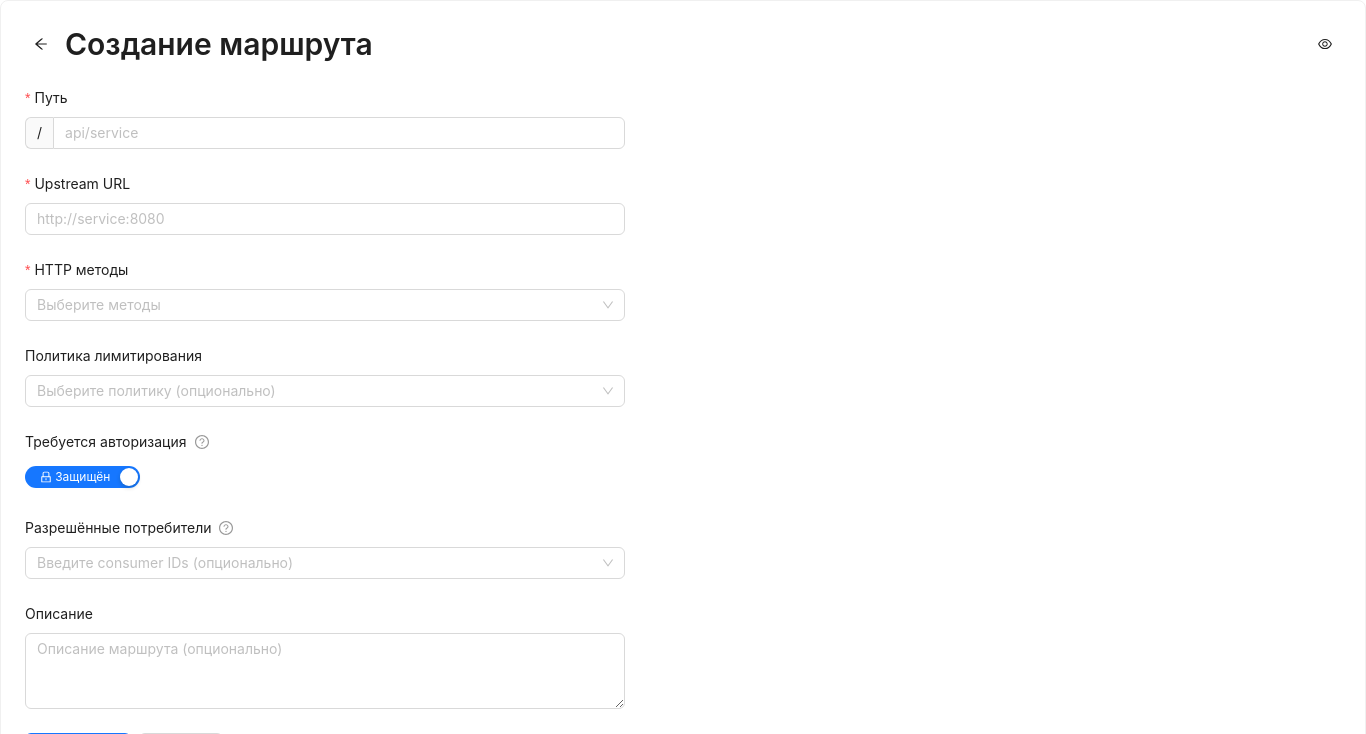
Test: RouteFormPage › проверка уникальности path › показывает ошибку "Path already exists" при дублирующемся path
This screenshot has width=1366, height=734.
Type "existing-path" into the field with placeholder "api/service".
click(339, 133); type("existing-path")  # box [53,117,625,149]
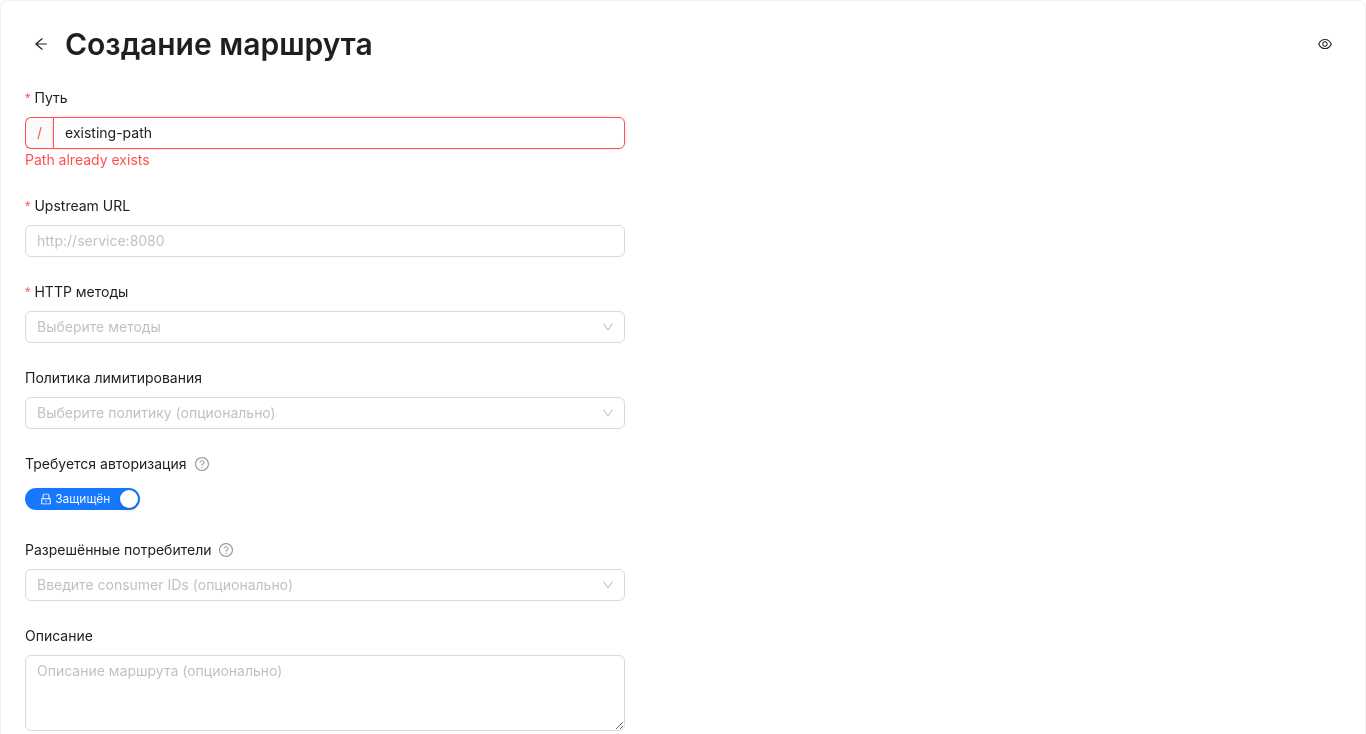
expect the text "Path already exists" is shown: met, box [25,151,150,168]
